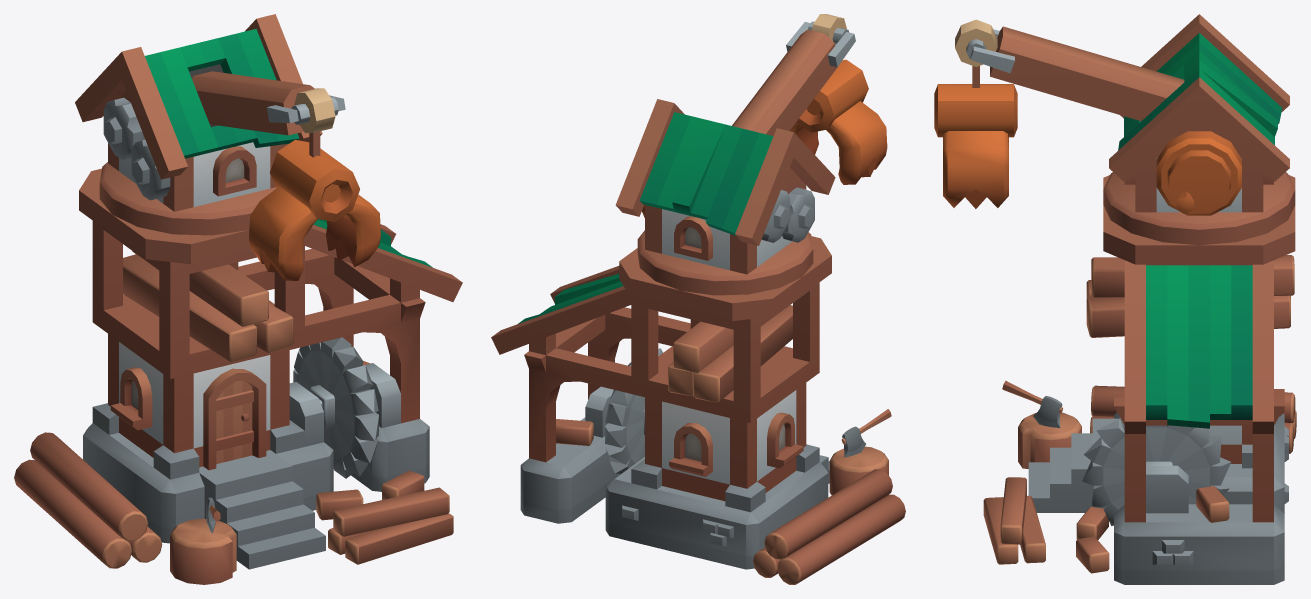
Rendered from lumbermill_green.glb.
3 views of the same model, side by side, from view 1: azimuth 30°, elevation 25°; view 2: azimuth 150°, elevation 25°; view 3: azimuth 270°, elevation 25° (orthographic). The views are drawn at different scales.
Visible parts, largest first — view 1: lumbermill_green; view 2: lumbermill_green; view 3: lumbermill_green.
Part boxes in pixels (x1,y1,x2,y2): lumbermill_green: [14, 14, 462, 584]; lumbermill_green: [491, 14, 905, 584]; lumbermill_green: [934, 14, 1296, 584].
Bounding box in the file's own units: 0.6835 × 0.8539 × 0.5946.
1 material, 1 textured.
